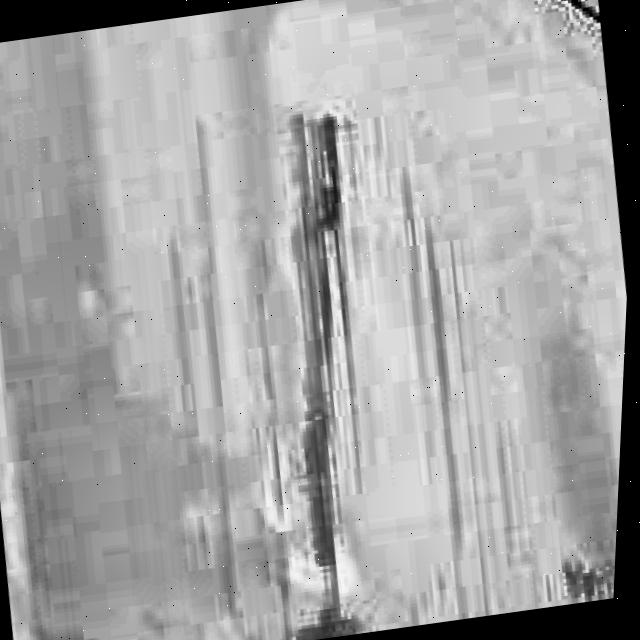door_scratch: (224, 89, 429, 640), (369, 159, 516, 623), (524, 515, 617, 609)
